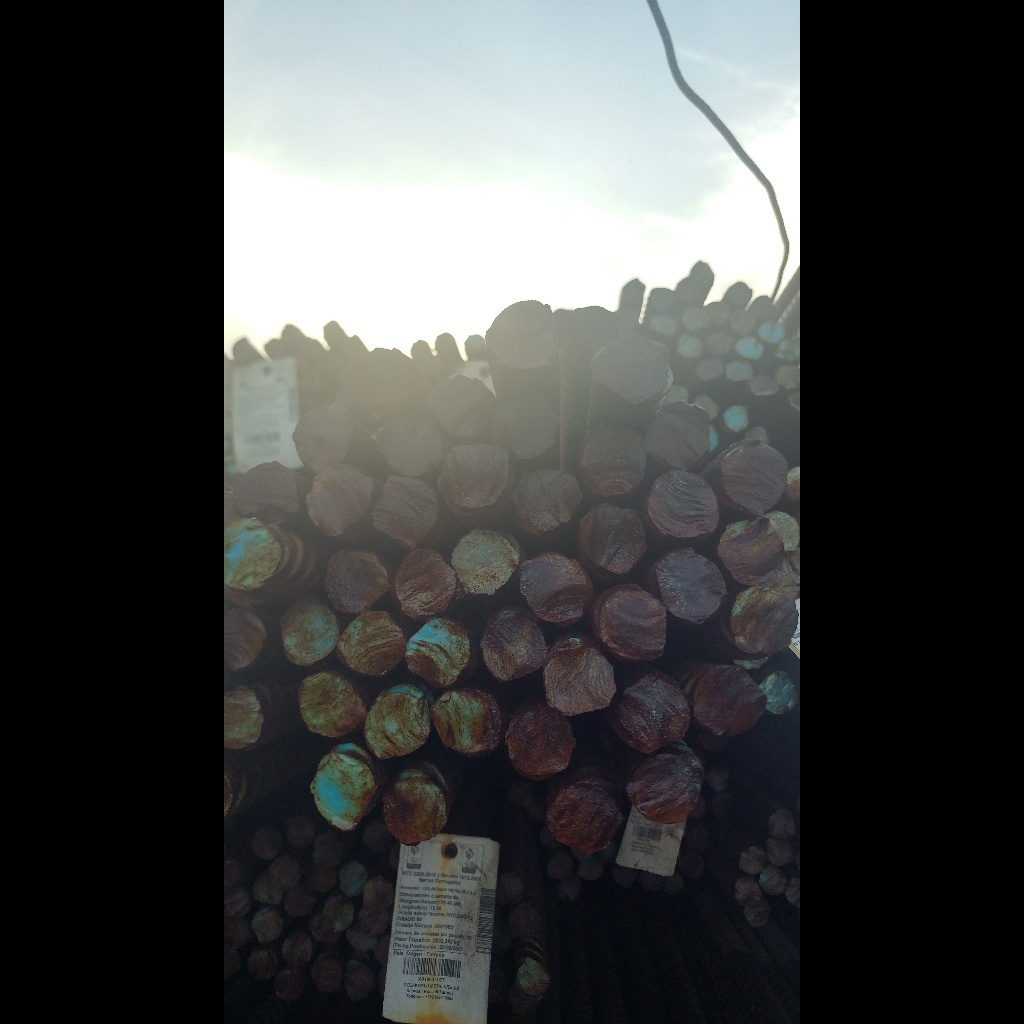dipstick: (478, 297, 558, 370), (310, 752, 378, 836), (612, 678, 688, 752), (643, 472, 724, 540), (695, 664, 769, 738), (299, 466, 375, 538), (547, 780, 622, 851), (589, 340, 670, 405), (441, 441, 513, 513), (517, 551, 585, 627), (275, 601, 352, 667), (630, 753, 702, 823), (593, 591, 666, 660), (711, 519, 785, 587), (545, 641, 616, 711), (293, 396, 363, 466), (726, 588, 798, 655), (367, 688, 433, 761), (295, 671, 364, 740), (655, 553, 725, 621), (575, 431, 648, 496), (718, 439, 784, 509), (505, 710, 577, 774), (478, 614, 547, 680), (496, 396, 564, 462), (576, 507, 644, 572), (373, 472, 439, 538), (434, 690, 503, 752), (387, 552, 457, 613), (385, 774, 446, 842), (337, 612, 405, 673), (510, 469, 577, 530), (406, 617, 467, 683), (446, 530, 511, 591), (639, 408, 708, 464), (327, 547, 387, 611), (233, 462, 300, 519), (225, 525, 282, 591), (442, 376, 496, 435), (228, 613, 267, 679), (225, 692, 263, 754), (758, 663, 796, 714), (516, 955, 550, 995), (317, 893, 353, 927), (314, 836, 349, 869), (248, 827, 286, 857), (272, 856, 305, 889), (509, 904, 542, 937), (254, 880, 290, 910), (282, 819, 315, 851), (308, 960, 344, 987), (694, 352, 726, 382), (343, 967, 375, 997), (281, 932, 310, 965), (366, 881, 399, 909), (244, 949, 277, 977), (249, 912, 283, 939), (492, 875, 522, 905), (543, 851, 574, 880), (273, 968, 302, 998), (286, 890, 319, 916), (356, 908, 392, 931), (755, 867, 787, 892), (750, 374, 778, 402), (765, 837, 793, 865), (725, 405, 751, 435), (349, 929, 381, 953), (337, 867, 365, 894), (676, 853, 702, 882), (676, 333, 708, 356), (691, 262, 718, 289), (736, 337, 764, 363), (721, 361, 751, 385), (576, 857, 606, 881), (682, 308, 707, 336), (229, 887, 252, 917), (705, 332, 734, 355), (729, 280, 753, 307), (706, 765, 729, 793), (694, 391, 721, 414), (707, 304, 734, 327), (732, 311, 760, 333), (759, 323, 784, 347), (641, 872, 666, 896), (741, 848, 765, 872), (612, 862, 637, 885), (768, 811, 792, 834), (733, 880, 755, 905), (753, 298, 775, 322), (747, 900, 768, 924), (649, 315, 674, 335), (788, 877, 800, 902)
